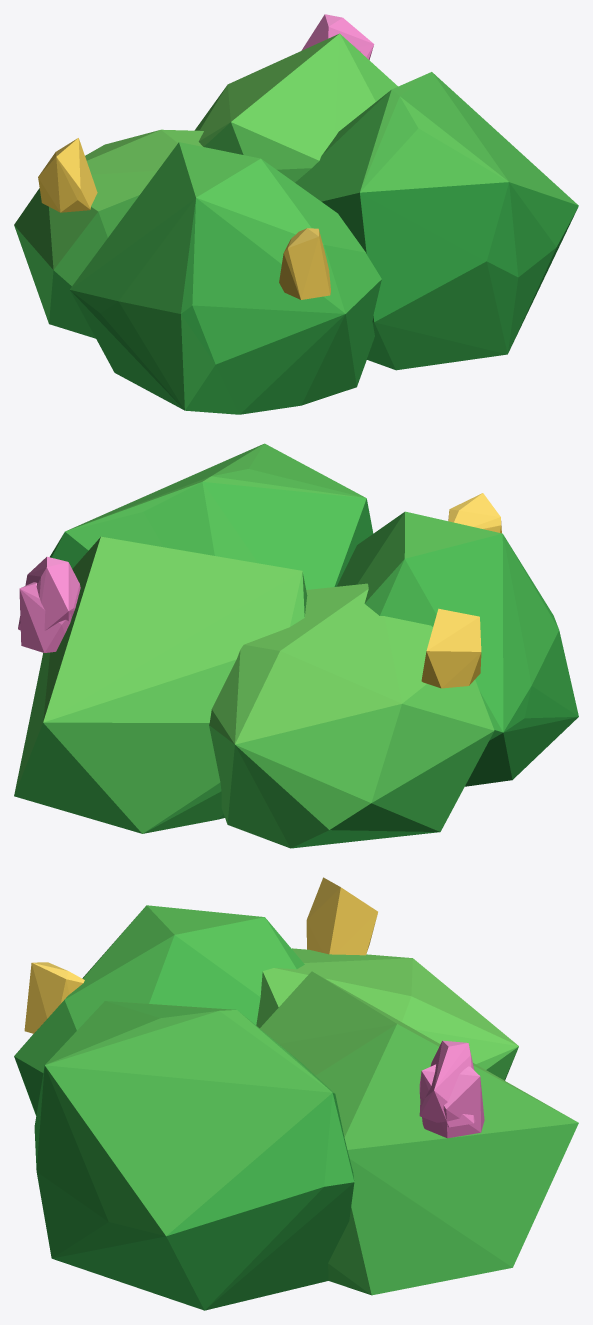
Rendered from Bush_0.glb.
3 views of the same model, one above another, from view 1: azimuth 30°, elevation 25°; view 2: azimuth 150°, elevation 25°; view 3: azimuth 270°, elevation 25° (orthographic). The views are drawn at different scales.
Parts seen in each view (by area): view 1: Bush_0; view 2: Bush_0; view 3: Bush_0.
Part boxes in pixels (box(x1,y1,x2,y2)): Bush_0: box(14, 14, 578, 414); Bush_0: box(14, 443, 578, 848); Bush_0: box(14, 877, 578, 1310).
Size of the model in its own units: 5.52 by 2.41 by 5.33.
Materials: 1 (1 with a texture image).
